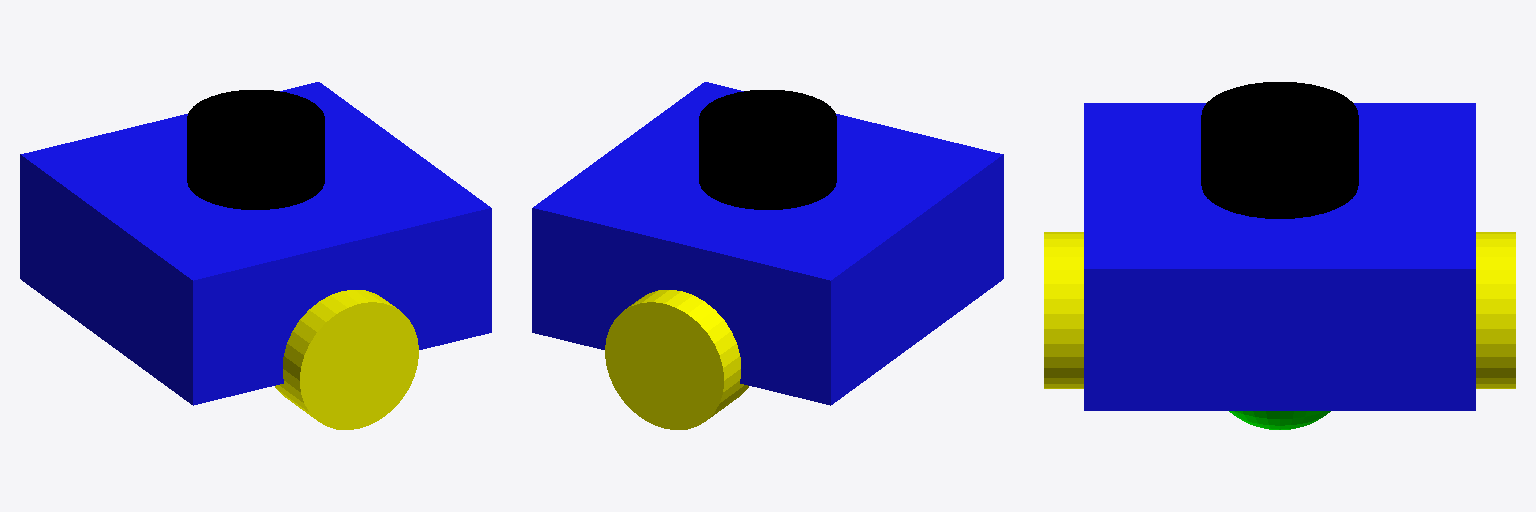
The robot description file, URDF, robot "robot":
<?xml version="1.0"?>
<robot name="robot">
    
    
  <link name="base_footprint"/>
  
  <joint name="base_joint" type="fixed">
    <parent link="base_footprint"/>
    <child link="base_link"/>
    <origin xyz="0.0 0.0 -0.05" rpy="0 0 0"/>
  </joint>
  
  <link name="base_link">
    <visual>
      <origin xyz="0 0 0.0" rpy="0 0 0"/>
      <geometry>
        <box size="0.1 0.1 0.04"/>
      </geometry>
      <material name="blue">
      	<color rgba = "0.1 0.1 1.0 0.5"/>
      </material>
    </visual>
    <collision>
      <origin xyz="0 0 0.0" rpy="0 0 0"/>
      <geometry>
        <box size="0.1 0.1 0.04"/>
      </geometry>
      <material name="blue">
          <color rgba="0.1 0.1 1.0 0.5" /> 
      </material>
    </collision>
    <inertial>
      <mass value="0.2"/>
      <inertia ixx="0.00019333333" ixy="0" ixz="0" iyy="0.00033333333" iyz="0" izz="0.00019333333"/>
    </inertial>
  </link>
    

  <link name="laser_link">
    <visual>
      <origin xyz="0 0 0" rpy="0 0 0"/>
      <geometry>
        <cylinder length="0.02" radius="0.02"/>
      </geometry>
      <material name="black">
          <color rgba="0.0 0.0 0.0 0.8" /> 
      </material>
    </visual>
    <collision>
      <origin xyz="0 0 0" rpy="0 0 0"/>
      <geometry>
        <cylinder length="0.02" radius="0.02"/>
      </geometry>
      <material name="black">
        <color rgba="0.0 0.0 0.0 0.5" /> 
      </material>
    </collision>
    <inertial>
      <mass value="0.1"/>
      <inertia ixx="0.0000417" ixy="0" ixz="0" iyy="0.0000417" iyz="0" izz="0.00002"/>
    </inertial>
  </link>

  <!-- laser joint -->
    <joint name="laser_joint" type="fixed">
        <parent link="base_link" />
        <child link="laser_link" />
        <origin xyz="0 0 0.03" rpy="0 0 0"/>
    </joint>
    
  <link name="left_wheel_link">
      <visual>
      <origin xyz="0 0 0" rpy="0 0 0"/>
      <geometry>
        <cylinder length="0.02" radius="0.02"/>
      </geometry>
      <material name="yellow">
          <color rgba="1.0 1.0 0.0 0.8" /> 
      </material>
    </visual>
    <collision>
        <origin xyz="0 0 0" rpy="0 0 0"/>
        <geometry>
          <cylinder length="0.02" radius="0.02"/>
        </geometry>
        <material name="black">
          <color rgba="0.0 0.0 0.0 0.5" /> 
        </material>
     </collision>
     <inertial>
       <mass value="0.02"/>
       <inertia ixx="0.00000278" ixy="0" ixz="0" iyy="0.00000278" iyz="0" izz="0.00000004"/>
     </inertial>
  </link>

  <!-- left wheel joint -->
    <joint name="left_wheel_joint" type="continuous">
        <parent link="base_link" />
        <child link="left_wheel_link" />
        <origin xyz="0 0.05 -0.015" rpy="1.57079 0 0"/>
        <axis xyz="0 0 -1" />
    </joint>


  <link name="right_wheel_link">
      <visual>
      <origin xyz="0 0 0" rpy="0 0 0"/>
      <geometry>
        <cylinder length="0.02" radius="0.02"/>
      </geometry>
      <material name="yellow">
          <color rgba="1.0 1.0 0.0 0.8" /> 
      </material>
    </visual>
    <collision>
        <origin xyz="0 0 0" rpy="0 0 0"/>
        <geometry>
          <cylinder length="0.02" radius="0.02"/>
        </geometry>
        <material name="black">
          <color rgba="0.0 0.0 0.0 0.5" /> 
        </material>
     </collision>
     <inertial>
       <mass value="0.02"/>
       <inertia ixx="0.00000278" ixy="0" ixz="0" iyy="0.00000278" iyz="0" izz="0.00000004"/>
     </inertial>
  </link>
<!-- right wheel joint -->
    <joint name="right_wheel_joint" type="continuous">
        <parent link="base_link" />
        <child link="right_wheel_link" />
        <origin xyz="0 -0.05 -0.015" rpy="1.57079 0 0"/>
        <axis xyz="0 0 -1" />
    </joint> 

  <link name="front_boll_link">
      <visual>
      <origin xyz="0 0 0" rpy="0 0 0"/>
      <geometry>
      	<sphere radius="0.02"/>
      </geometry>
      <material name="green">
          <color rgba="0.0 1.0 0.0 0.8" /> 
      </material>
    </visual>
    <collision>
        <origin xyz="0 0 0" rpy="0 0 0"/>
        <geometry>
          <sphere radius="0.02"/>
        </geometry>
        <material name="black">
          <color rgba="0.0 0.0 0.0 0.5" /> 
        </material>
    </collision>
  </link>
  <gazebo reference="front_boll_link">
    <mu1 value="0.0"/>
    <mu2 value="0.0"/>
    <kp value="1000000.0" />
    <kd value="10.0" />
  </gazebo>
<!-- front boll joint -->
    <joint name="front_boll_joint" type="fixed">
        <parent link="base_link" />
        <child link="front_boll_link" />
        <origin xyz="0.025 0 -0.015" />
    </joint>

  <link name="behind_boll_link">
      <visual>
      <origin xyz="0 0 0" rpy="0 0 0"/>
      <geometry>
        <sphere radius="0.02"/>
      </geometry>
      <material name="blue">
          <color rgba="0.0 0.0 1.0 0.8" /> 
      </material>
    </visual>
    <collision>
        <origin xyz="0 0 0" rpy="0 0 0"/>
        <geometry>
          <sphere radius="0.02"/>
        </geometry>
        <material name="black">
          <color rgba="0.0 0.0 0.0 0.5" /> 
        </material>
    </collision>
  </link>
  <gazebo reference="behind_boll_link">
    <mu1 value="0.0"/>
    <mu2 value="0.0"/>
    <kp value="1000000.0" />
    <kd value="10.0" />
  </gazebo>

    <joint name="behind_boll_joint" type="fixed">
        <parent link="base_link" />
        <child link="behind_boll_link" />
        <origin xyz="-0.025 0.0 -0.015" />
    </joint>

  <link name="imu_link">
      <visual>
      <origin xyz="0 0 0" rpy="0 0 0"/>
      <geometry>
        <box size="0.01 0.01 0.01"/>
      </geometry>
    </visual>
  </link>

  <joint name="imu_joint" type="fixed">
    <parent link="base_link" />
    <child link="imu_link" />
    <origin xyz="0 0 0.03" rpy="0 0 0"/>
  </joint>
  
  
  <gazebo reference="imu_link">
   <sensor name="imu_sensor" type="imu">
      <plugin filename="libgazebo_ros_imu_sensor.so" name="imu_plugin">
          <ros>
            <namespace>/</namespace>
            <remapping>~/out:=imu</remapping>
          </ros>
          <initial_orientation_as_reference>false</initial_orientation_as_reference>
      </plugin>
      <always_on>true</always_on>
      <update_rate>175</update_rate>
      <visualize>true</visualize>
      <imu>
        <angular_velocity>
         <x>
         <noise type="gaussian">
           <mean>0.0</mean>
           <stddev>32.0844</stddev>
           <bias_mean>0.333963</bias_mean>
           <bias_stddev>0.000000</bias_stddev>
         </noise>
         </x>
         <y>
          <noise type="gaussian">
            <mean>0.0</mean>
            <stddev>27.6577</stddev>
            <bias_mean>-0.132765</bias_mean>
            <bias_stddev>0.000000</bias_stddev>
          </noise>
         </y>
         <z>
           <noise type="gaussian">
             <mean>0.0</mean>
             <stddev>33.8533</stddev>
             <bias_mean>-0.272867</bias_mean>
             <bias_stddev>0.000000</bias_stddev>
           </noise>
         </z>
        </angular_velocity>
        <linear_acceleration>
         <x>
           <noise type="gaussian">
             <mean>0.0</mean>
             <stddev>0.036335</stddev>
             <bias_mean>0.0</bias_mean>
             <bias_stddev>0.000</bias_stddev>
           </noise>
          </x>
          <y>
           <noise type="gaussian">
             <mean>0.0</mean>
             <stddev>0.0295582</stddev>
             <bias_mean>0.0</bias_mean>
             <bias_stddev>0.000</bias_stddev>
           </noise>
          </y>
          <z>
           <noise type="gaussian">
             <mean>0.0</mean>
             <stddev>0.035191</stddev>
             <bias_mean>0.0</bias_mean>
             <bias_stddev>0.000</bias_stddev>
           </noise>
          </z>
        </linear_acceleration>
       </imu>
      </sensor>
  </gazebo>
  
  <gazebo reference="laser_link">
    <sensor name="laser_sensor" type="ray">
      <plugin filename="libgazebo_ros_ray_sensor.so" name="laser_plugin">
        <ros>
          <remapping>~/out:=scan</remapping>
        </ros>
        <output_type>sensor_msgs/LaserScan</output_type>
      </plugin>
      <always_on>true</always_on>
      <visualize>true</visualize>
      <update_rate>5</update_rate>
      <pose>0 0 0.03 0 0 3.1415926</pose>
      <ray>
          <scan>
            <horizontal>
              <samples>4500</samples>
              <resolution>0.080000</resolution>
              <min_angle>0.000000</min_angle>
              <max_angle>6.280000</max_angle>
            </horizontal>
          </scan>
          <range>
            <min>0.10000</min>
            <max>12</max>
            <resolution>0.015000</resolution>
          </range>
          <noise>
            <type>gaussian</type>
            <mean>0.0</mean>
            <stddev>0.01</stddev>
          </noise>
      </ray>
    </sensor>
  </gazebo>
  
  
  
  
 <gazebo>
    <plugin name='diff_drive' filename='libgazebo_ros_diff_drive.so'>
          <ros>
            <namespace>/</namespace>
            <remapping>cmd_vel:=cmd_vel</remapping>
            <remapping>odom:=odom</remapping>
          </ros>
          <update_rate>30</update_rate>
          <!-- wheels -->
          <left_joint>left_wheel_joint</left_joint>
          <right_joint>right_wheel_joint</right_joint>
          <!-- kinematics -->
          <wheel_separation>0.1</wheel_separation>
          <wheel_diameter>0.04</wheel_diameter>
          <!-- limits -->
          <max_wheel_torque>20</max_wheel_torque>
          <max_wheel_acceleration>1.0</max_wheel_acceleration>
          <!-- output -->
          <publish_odom>true</publish_odom>
          <publish_odom_tf>true</publish_odom_tf>
          <publish_wheel_tf>true</publish_wheel_tf>
          <odometry_frame>odom</odometry_frame>
          <robot_base_frame>base_footprint</robot_base_frame>
   </plugin>
 </gazebo>
</robot>

--- What the picture shows (computed from the rendered views, not written in the file) ---
3 views of the same robot in one strip: view 1: azimuth 30°, elevation 25°; view 2: azimuth 150°, elevation 25°; view 3: azimuth 270°, elevation 25° (orthographic).
Model robot with 8 links and 7 joints (2 continuous, 5 fixed), rooted at base_footprint, posed every joint at zero.
Links seen in each view (by area): view 1: base_link, laser_link, right_wheel_link; view 2: base_link, laser_link, left_wheel_link; view 3: base_link, laser_link, left_wheel_link, right_wheel_link, front_boll_link.
Link boxes in pixels (<box>): base_link: <box>20,82,491,405</box>; laser_link: <box>187,90,324,209</box>; right_wheel_link: <box>275,290,418,429</box>; base_link: <box>532,82,1003,405</box>; laser_link: <box>699,90,836,209</box>; left_wheel_link: <box>605,290,748,429</box>; base_link: <box>1084,103,1475,410</box>; laser_link: <box>1201,82,1358,218</box>; left_wheel_link: <box>1476,232,1515,388</box>; right_wheel_link: <box>1044,232,1083,388</box>; front_boll_link: <box>1229,411,1330,429</box>.
Bounding box of the posed robot: 0.1 × 0.12 × 0.075 m (x, y, z).
Geometry: primitives only (box / cylinder / sphere), no mesh files.
